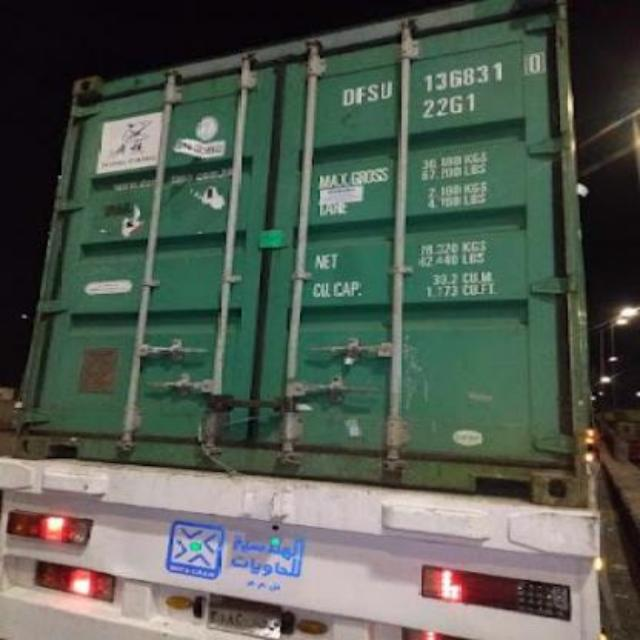0: (524, 47, 548, 71)
1: (488, 54, 502, 86), (418, 67, 434, 91)
3: (474, 56, 488, 88), (432, 69, 448, 95)
6: (448, 62, 462, 92)
8: (462, 63, 474, 87)
D: (338, 85, 354, 109)
F: (354, 84, 366, 106)
S: (364, 78, 380, 108)
U: (378, 76, 396, 102)
